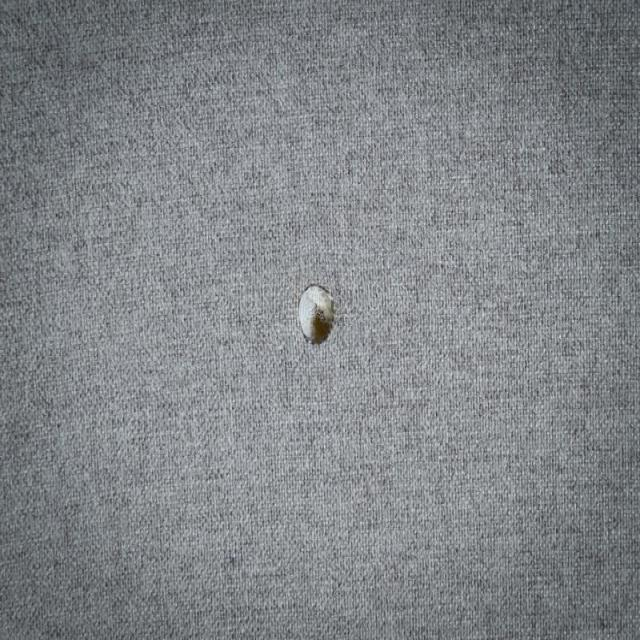Hole: (298, 286, 334, 344)
